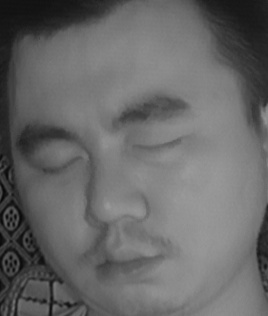blink: (130, 126, 187, 162), (36, 147, 84, 183)
mouth: (88, 239, 165, 284)
